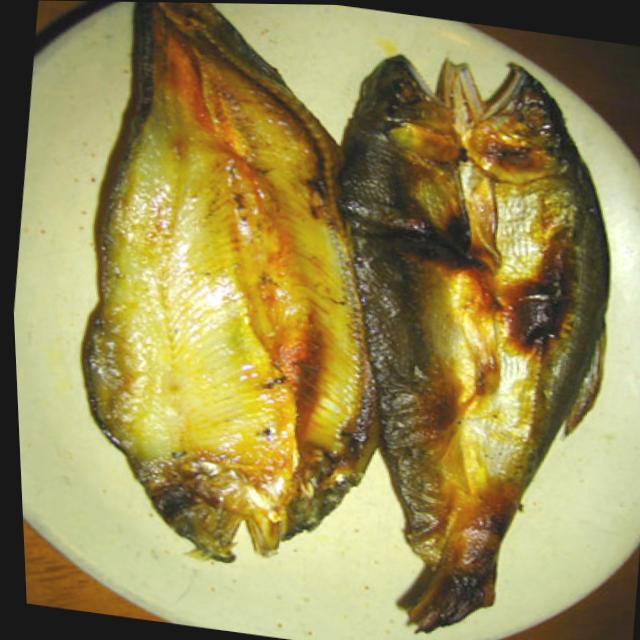熟制海鲜: (44, 1, 640, 640)
